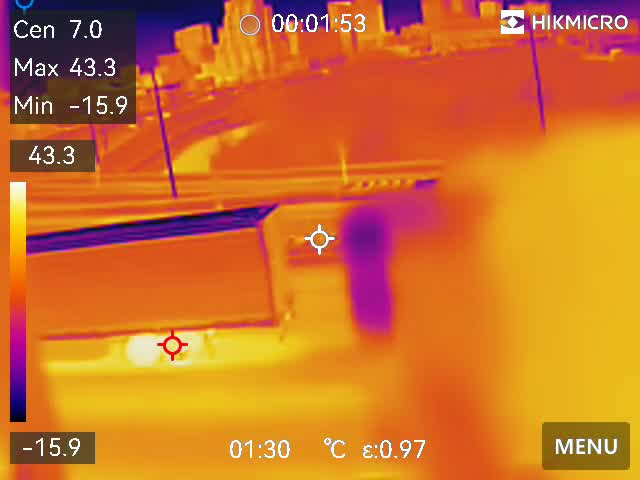heavyTruck: (25, 204, 305, 352)
